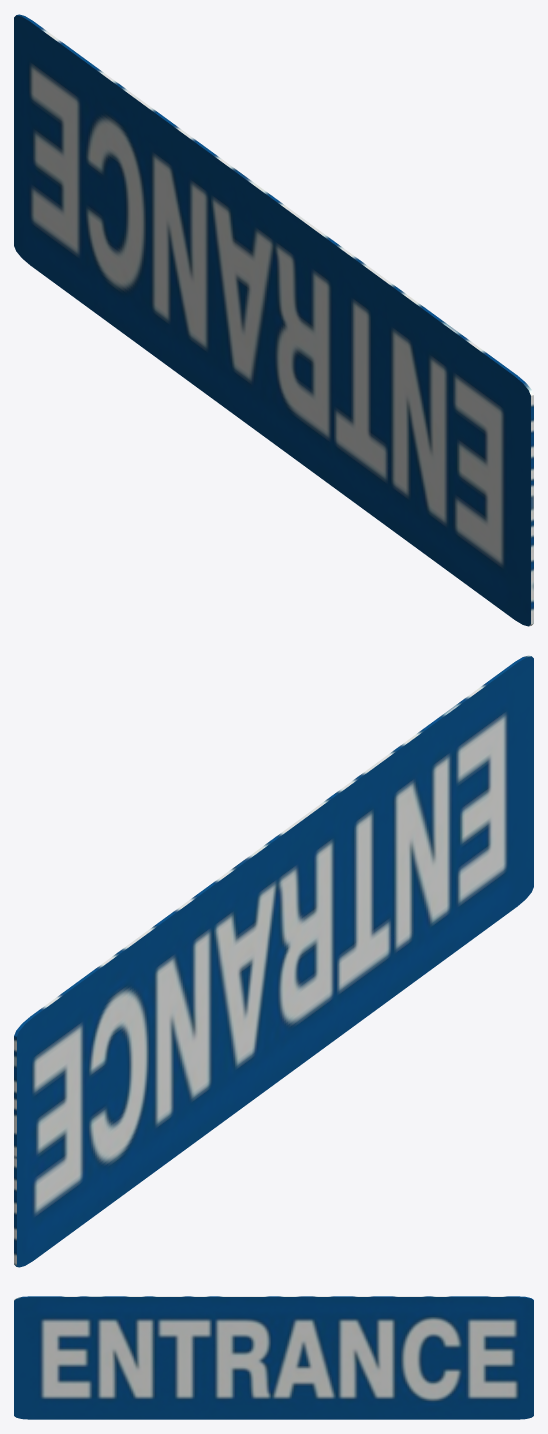
File: DecaEntrance.fbx
The picture shows the model from 3 angles, top to bottom: view 1: azimuth 30°, elevation 25°; view 2: azimuth 150°, elevation 25°; view 3: azimuth 270°, elevation 25°; orthographic projection. The views are drawn at different scales.
Visible parts, largest first — view 1: DecaEntrance; view 2: DecaEntrance; view 3: DecaEntrance.
Boxes of the visible parts, box(x1,y1,x2,y2) form: DecaEntrance: box(14, 14, 533, 626); DecaEntrance: box(14, 655, 533, 1267); DecaEntrance: box(14, 1296, 533, 1419).
Bounding box in the file's own units: 5.01e-05 × 0.00385 × 0.0148.
